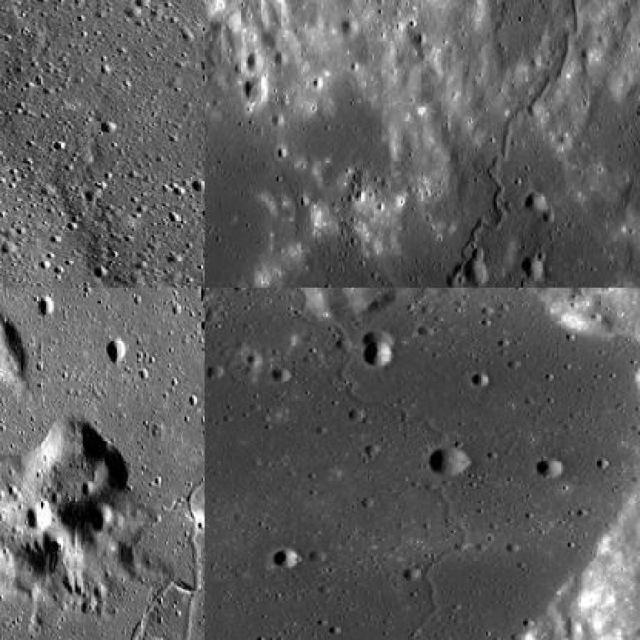rille: (297, 0, 638, 286), (214, 288, 451, 444), (139, 287, 203, 638), (128, 0, 203, 286), (406, 484, 471, 638), (128, 576, 195, 638)
